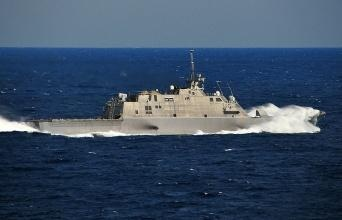warship: (20, 49, 327, 137)
